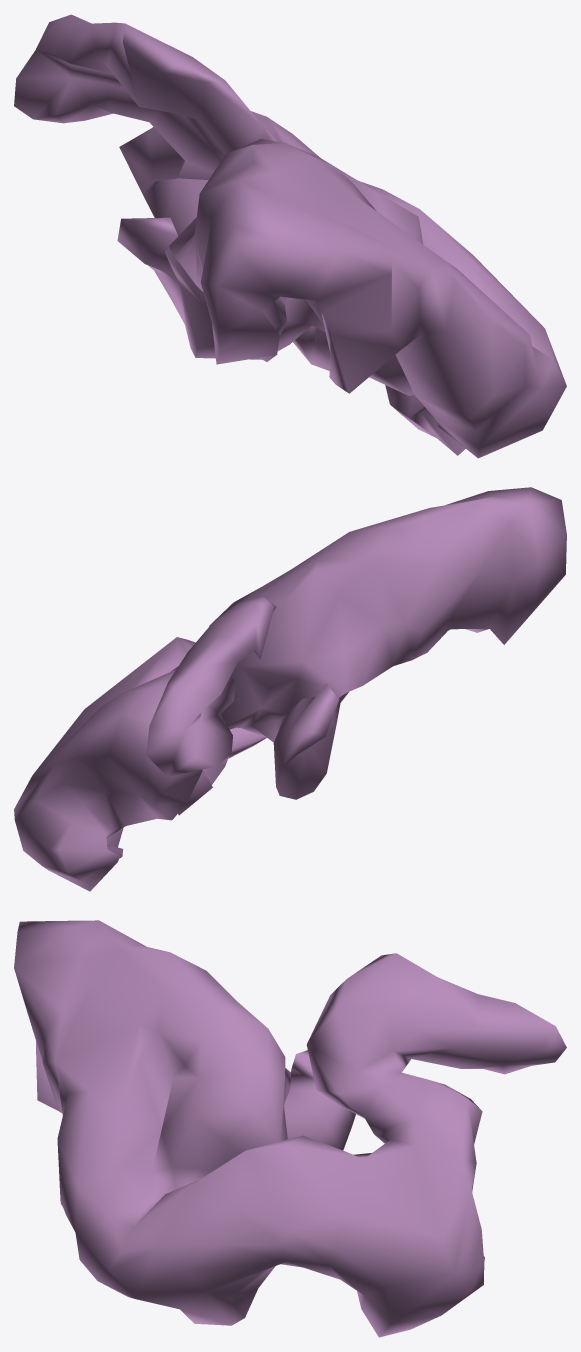
3 views of the same model, one above another, from view 1: azimuth 30°, elevation 25°; view 2: azimuth 150°, elevation 25°; view 3: azimuth 270°, elevation 25° (orthographic). The views are drawn at different scales.
Visible parts, largest first — view 1: 左侧枕外侧回（枕中回）; view 2: 左侧枕外侧回（枕中回）; view 3: 左侧枕外侧回（枕中回）.
Part boxes in pixels (x1,y1,x2,y2): 左侧枕外侧回（枕中回）: (14,14,566,458); 左侧枕外侧回（枕中回）: (14,487,566,891); 左侧枕外侧回（枕中回）: (14,920,566,1337).
Size of the model in its own units: 0.0442 by 0.0407 by 0.0662.
